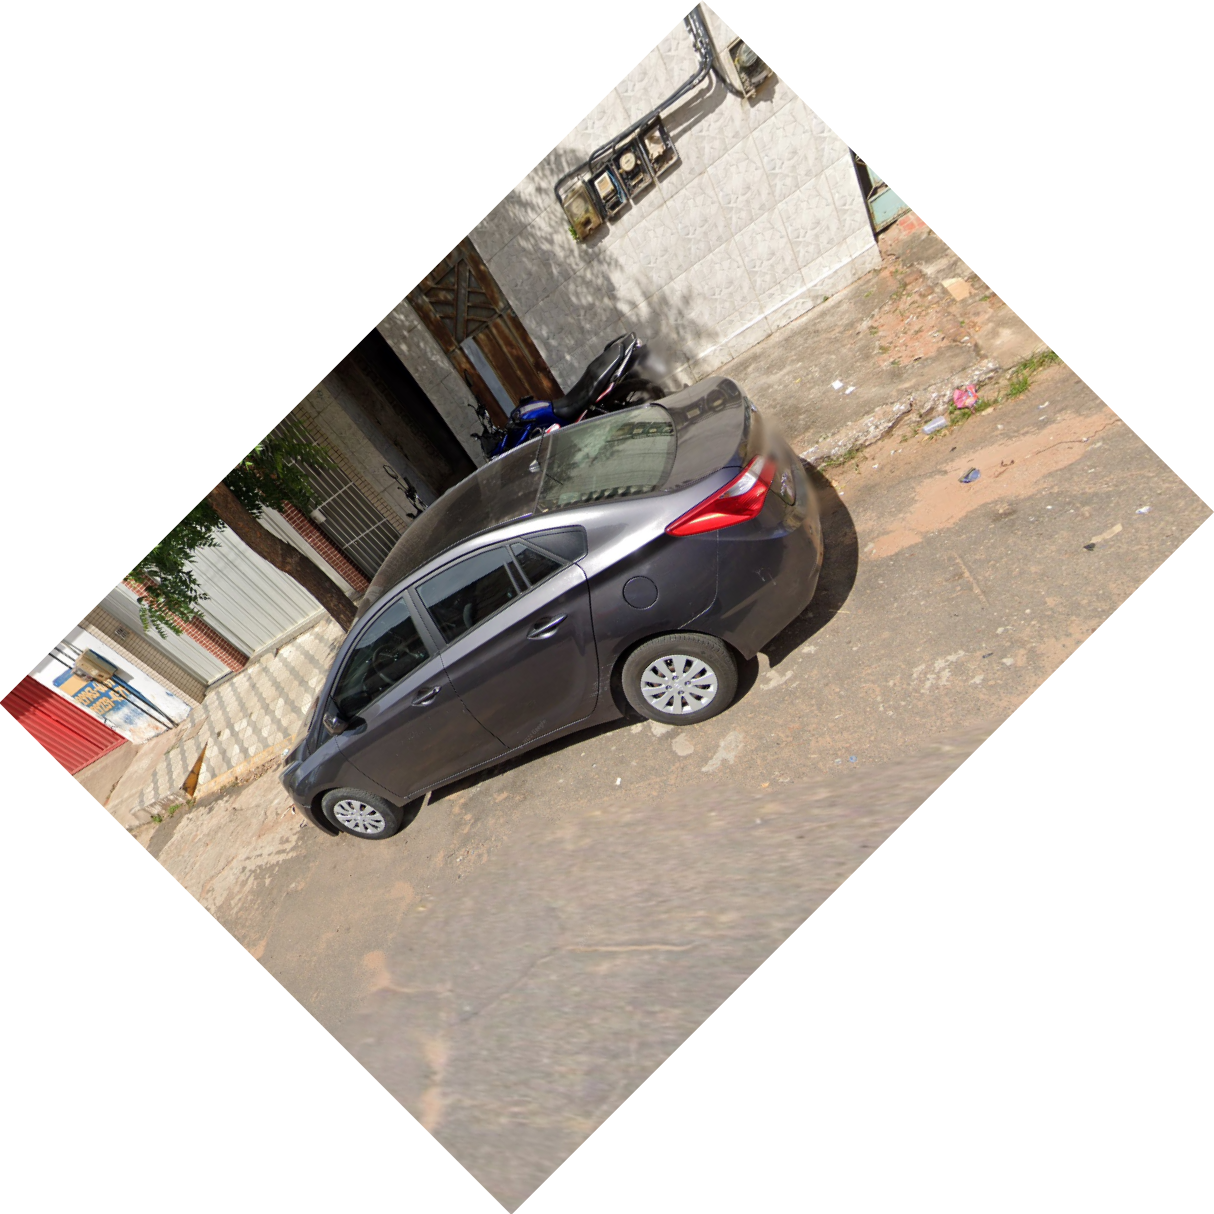car: (272, 368, 833, 849)
